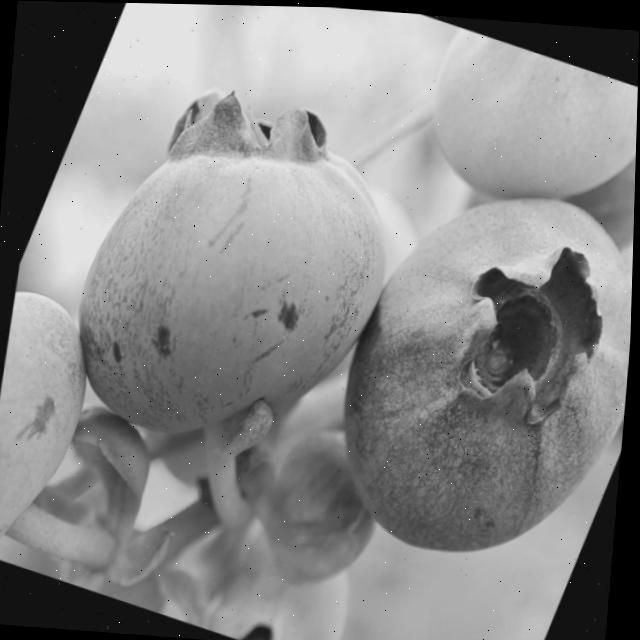RipeBlueBerry: (29, 55, 440, 485), (287, 149, 637, 597)
